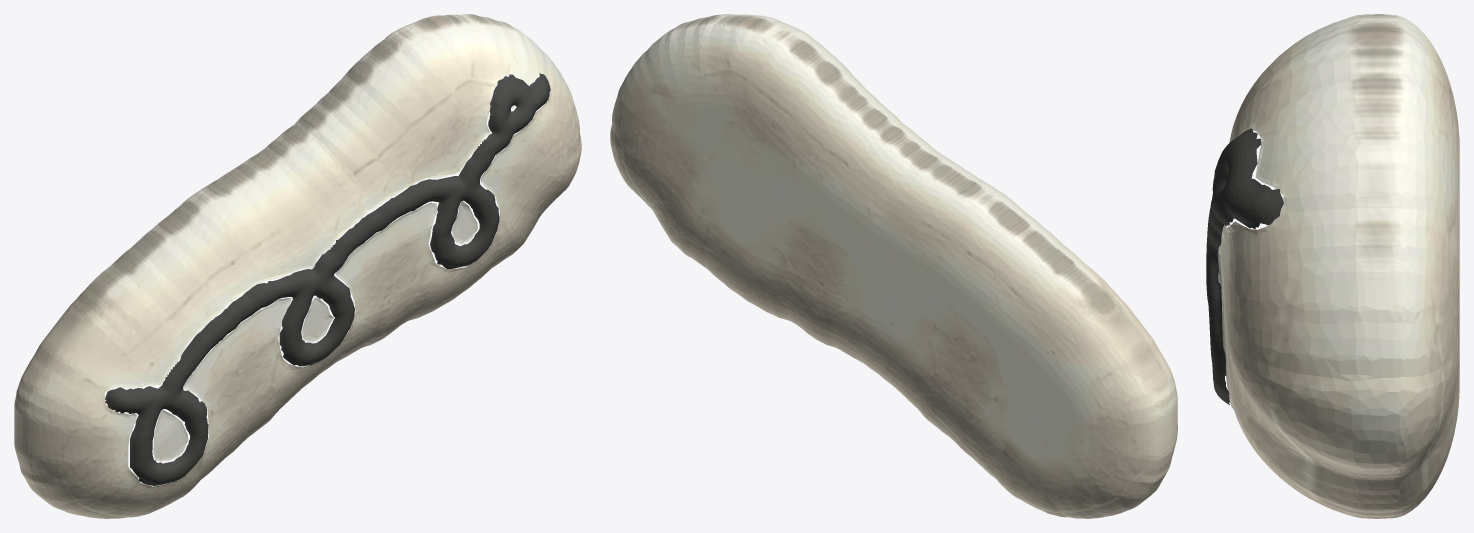
File: IAMWE_XMAS_GARLAND.glb
3 views of the same model, side by side, from view 1: azimuth 30°, elevation 25°; view 2: azimuth 150°, elevation 25°; view 3: azimuth 270°, elevation 25° (orthographic). The views are drawn at different scales.
Parts seen in each view (by area): view 1: garland_paper, garland_thread; view 2: garland_paper; view 3: garland_paper, garland_thread.
Part boxes in pixels (bbox=[...]): garland_paper: bbox=[14, 14, 581, 518]; garland_thread: bbox=[105, 73, 550, 485]; garland_paper: bbox=[610, 14, 1177, 518]; garland_paper: bbox=[1218, 14, 1459, 518]; garland_thread: bbox=[1206, 128, 1283, 404].
Size of the model in its own units: 1 by 0.7174 by 0.2246.
Materials: 2 (1 with a texture image).
